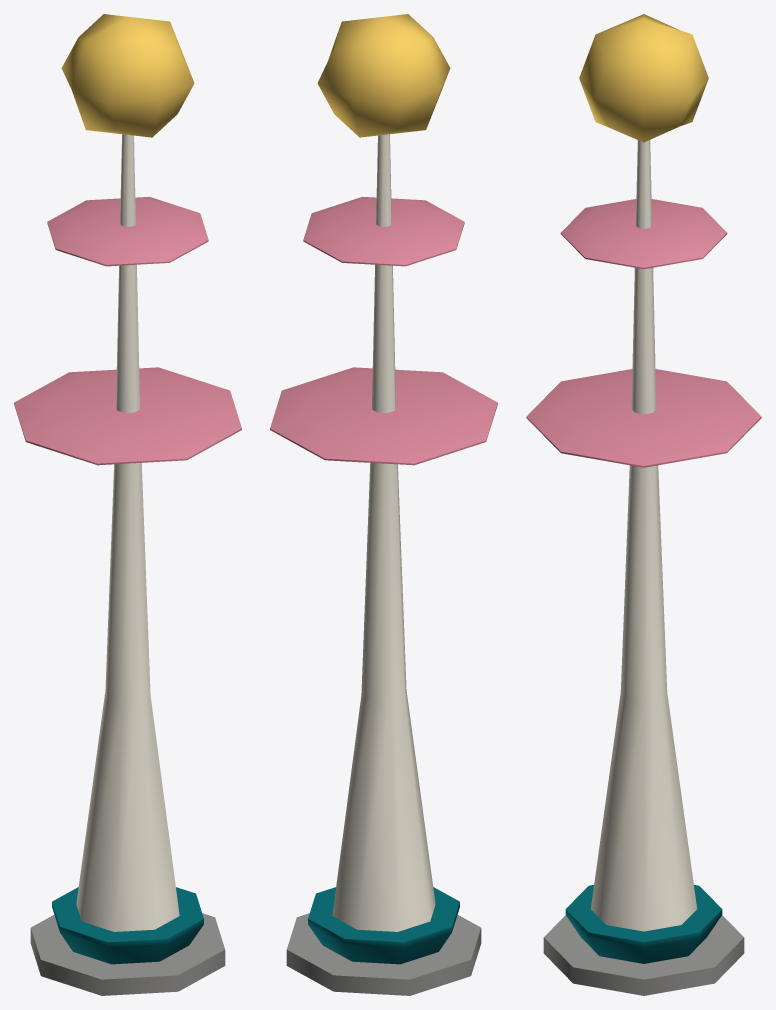
The model's file is Streetlight_1.fbx.
The picture shows the model from 3 angles, left to right: view 1: azimuth 30°, elevation 25°; view 2: azimuth 150°, elevation 25°; view 3: azimuth 270°, elevation 25°; orthographic projection.
Visible parts, largest first — view 1: Streetlight_1; view 2: Streetlight_1; view 3: Streetlight_1.
Part boxes in pixels (left/top/right/bottom): Streetlight_1: left=14, top=14, right=241, bottom=995; Streetlight_1: left=270, top=14, right=497, bottom=995; Streetlight_1: left=526, top=14, right=761, bottom=995.
Bounding box in the file's own units: 25.61 × 25.61 × 112.
